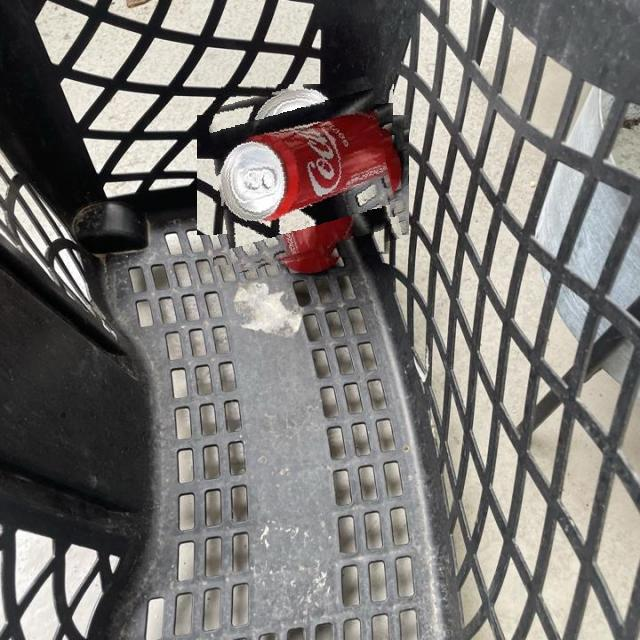recyclable: (213, 84, 394, 266)
